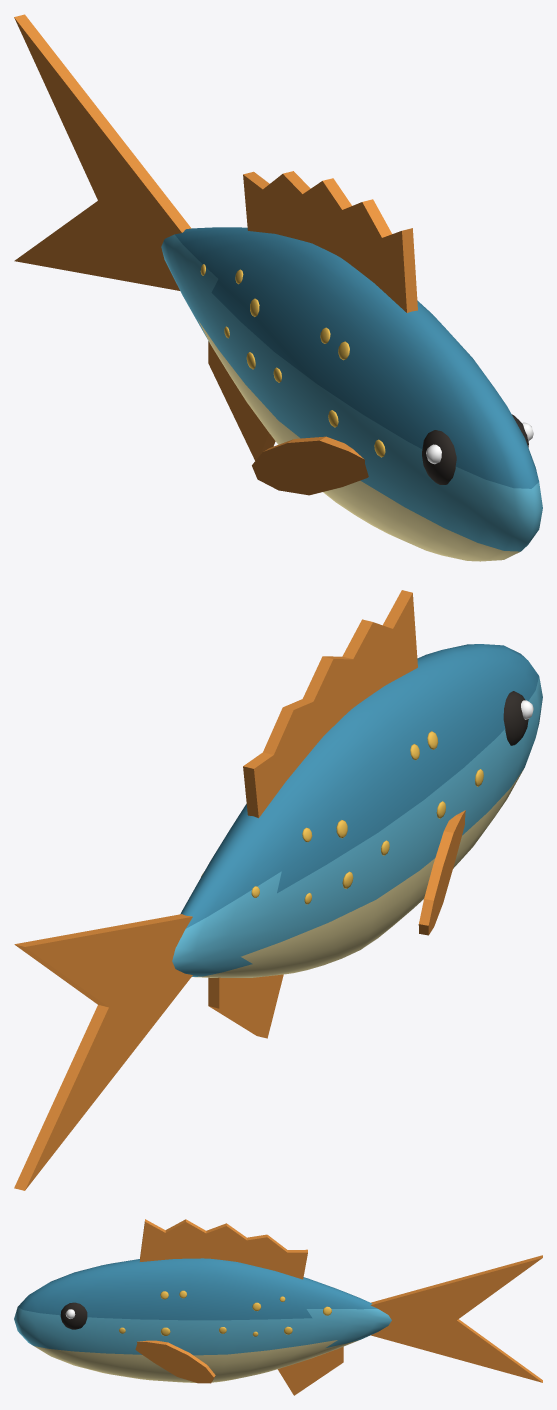
File: fish-rainbow-wrasse.glb
The picture shows the model from 3 angles, top to bottom: view 1: azimuth 30°, elevation 25°; view 2: azimuth 150°, elevation 25°; view 3: azimuth 270°, elevation 25°; orthographic projection. The views are drawn at different scales.
Parts seen in each view (by area): view 1: fish; view 2: fish; view 3: fish.
Boxes of the visible parts, x1=… form: fish: x1=14, y1=14, x2=542, y2=561; fish: x1=14, y1=590, x2=542, y2=1190; fish: x1=14, y1=1219, x2=542, y2=1395.
Size of the model in its own units: 0.0971 by 0.178 by 0.49.
